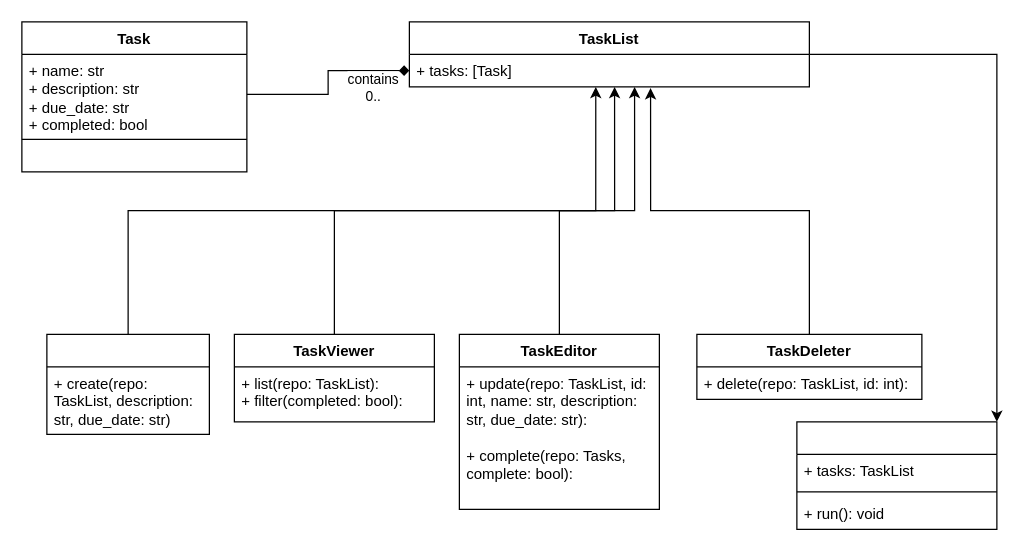
Image size: 1029x555. Some labels were removed from this diagram. Each missing label, with the box of its shape:
Main: (796, 421, 997, 529)
TaskCreator: (46, 333, 209, 434)
